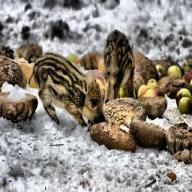boar: (29, 51, 105, 127)
